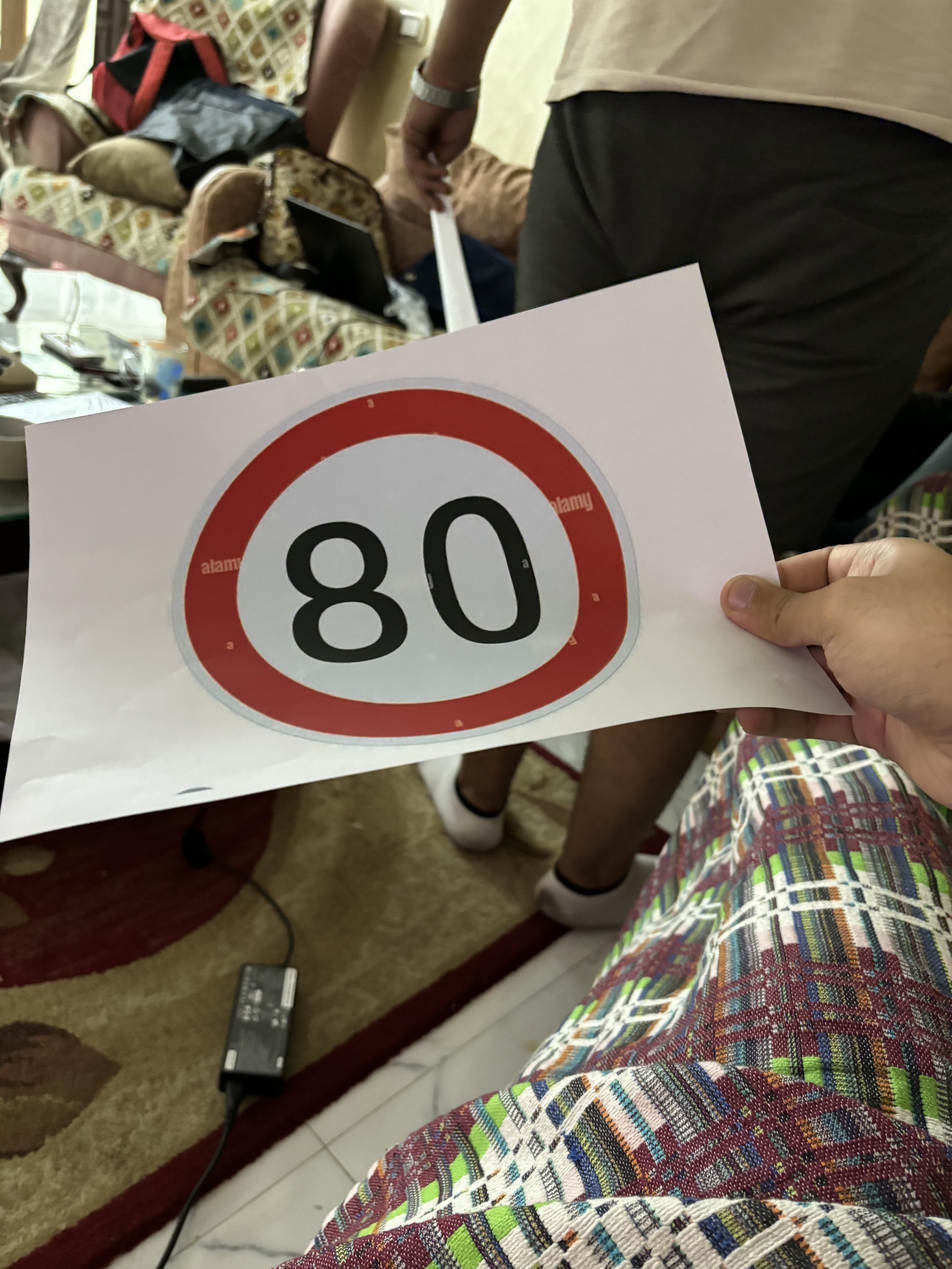80-Speed: (163, 369, 655, 758)
